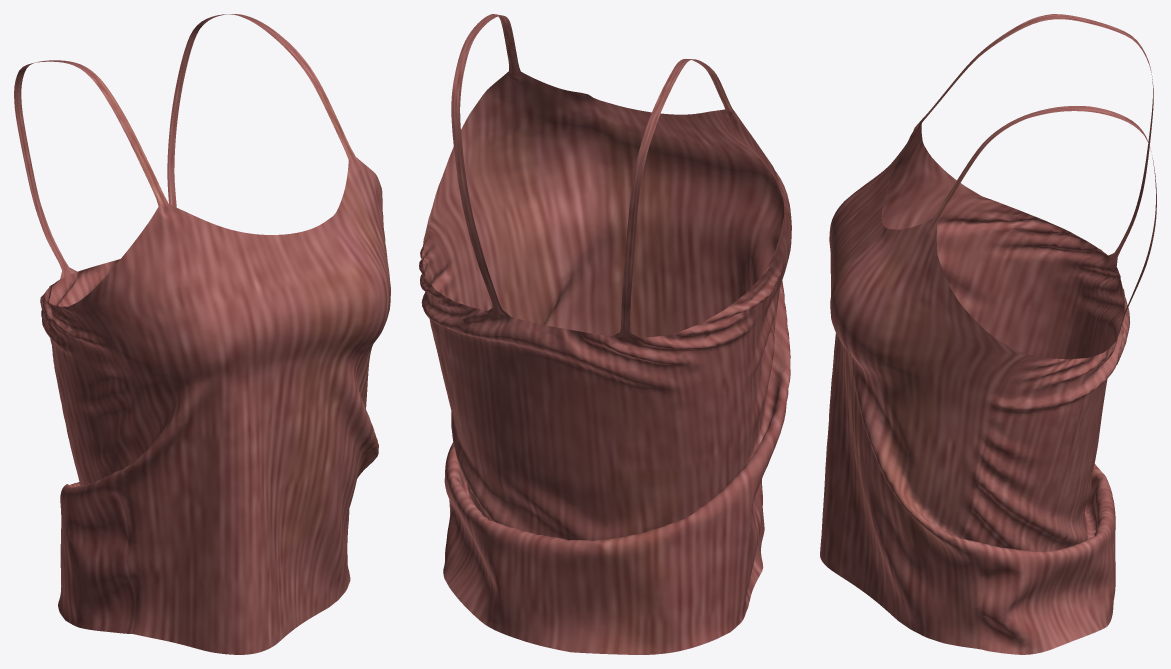
File: roze top.fbx
The picture shows the model from 3 angles, left to right: view 1: azimuth 30°, elevation 25°; view 2: azimuth 150°, elevation 25°; view 3: azimuth 270°, elevation 25°; orthographic projection. The views are drawn at different scales.
Parts seen in each view (by area): view 1: roze top; view 2: roze top; view 3: roze top.
Part boxes in pixels (x1,y1,x2,y2): roze top: (14,14,390,654); roze top: (419,14,791,654); roze top: (820,14,1156,654).
Bounding box in the file's own units: 25.84 × 44.32 × 25.08.
